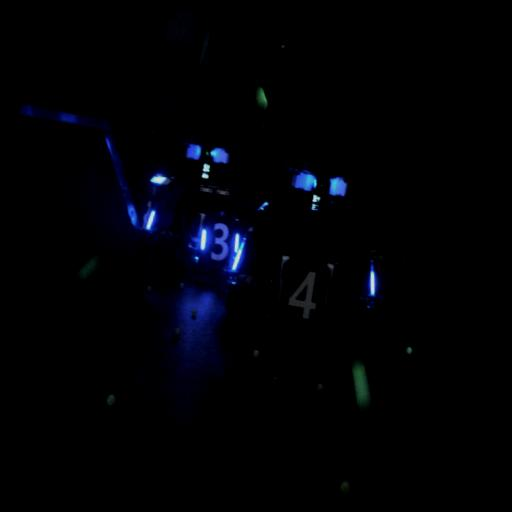target: (267, 248, 338, 342), (189, 212, 250, 274)
